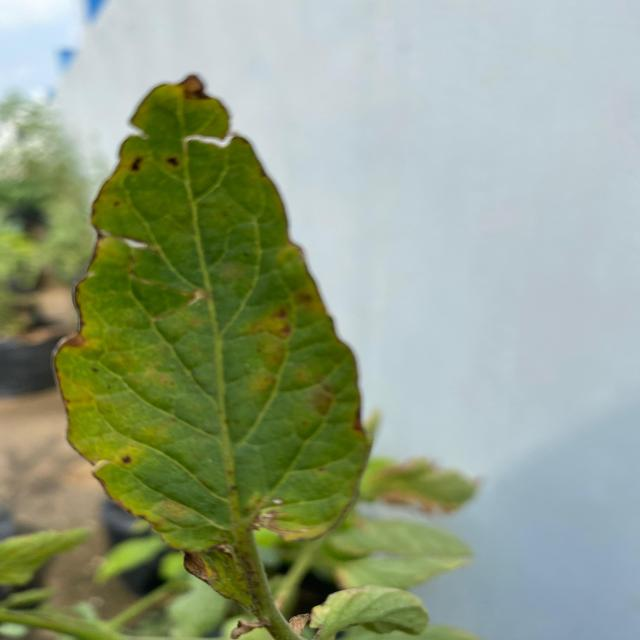Tomato_Early_Blight: (47, 58, 387, 563)
